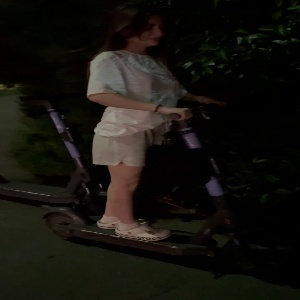human on a scooter: (38, 7, 280, 274)
